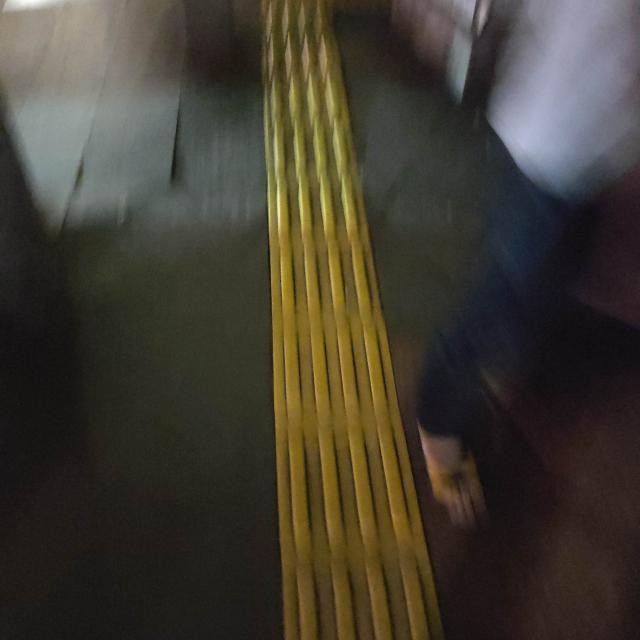lurus: (249, 46, 413, 640)
